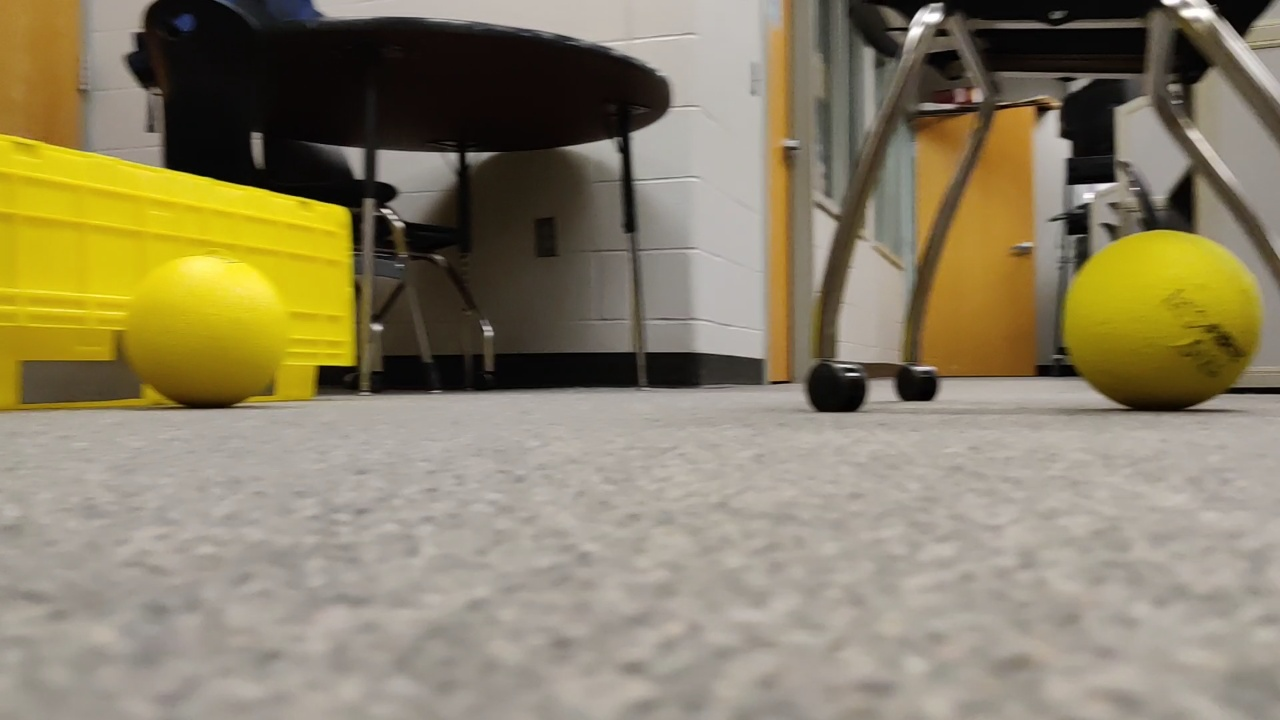Ball: (1049, 220, 1265, 412), (117, 255, 282, 403)
